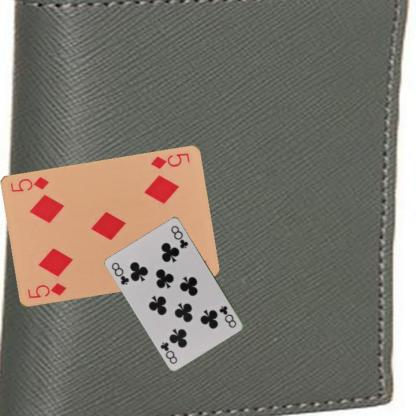5d: (148, 150, 191, 171), (24, 280, 67, 300)
8c: (109, 260, 131, 286), (217, 304, 238, 330)
